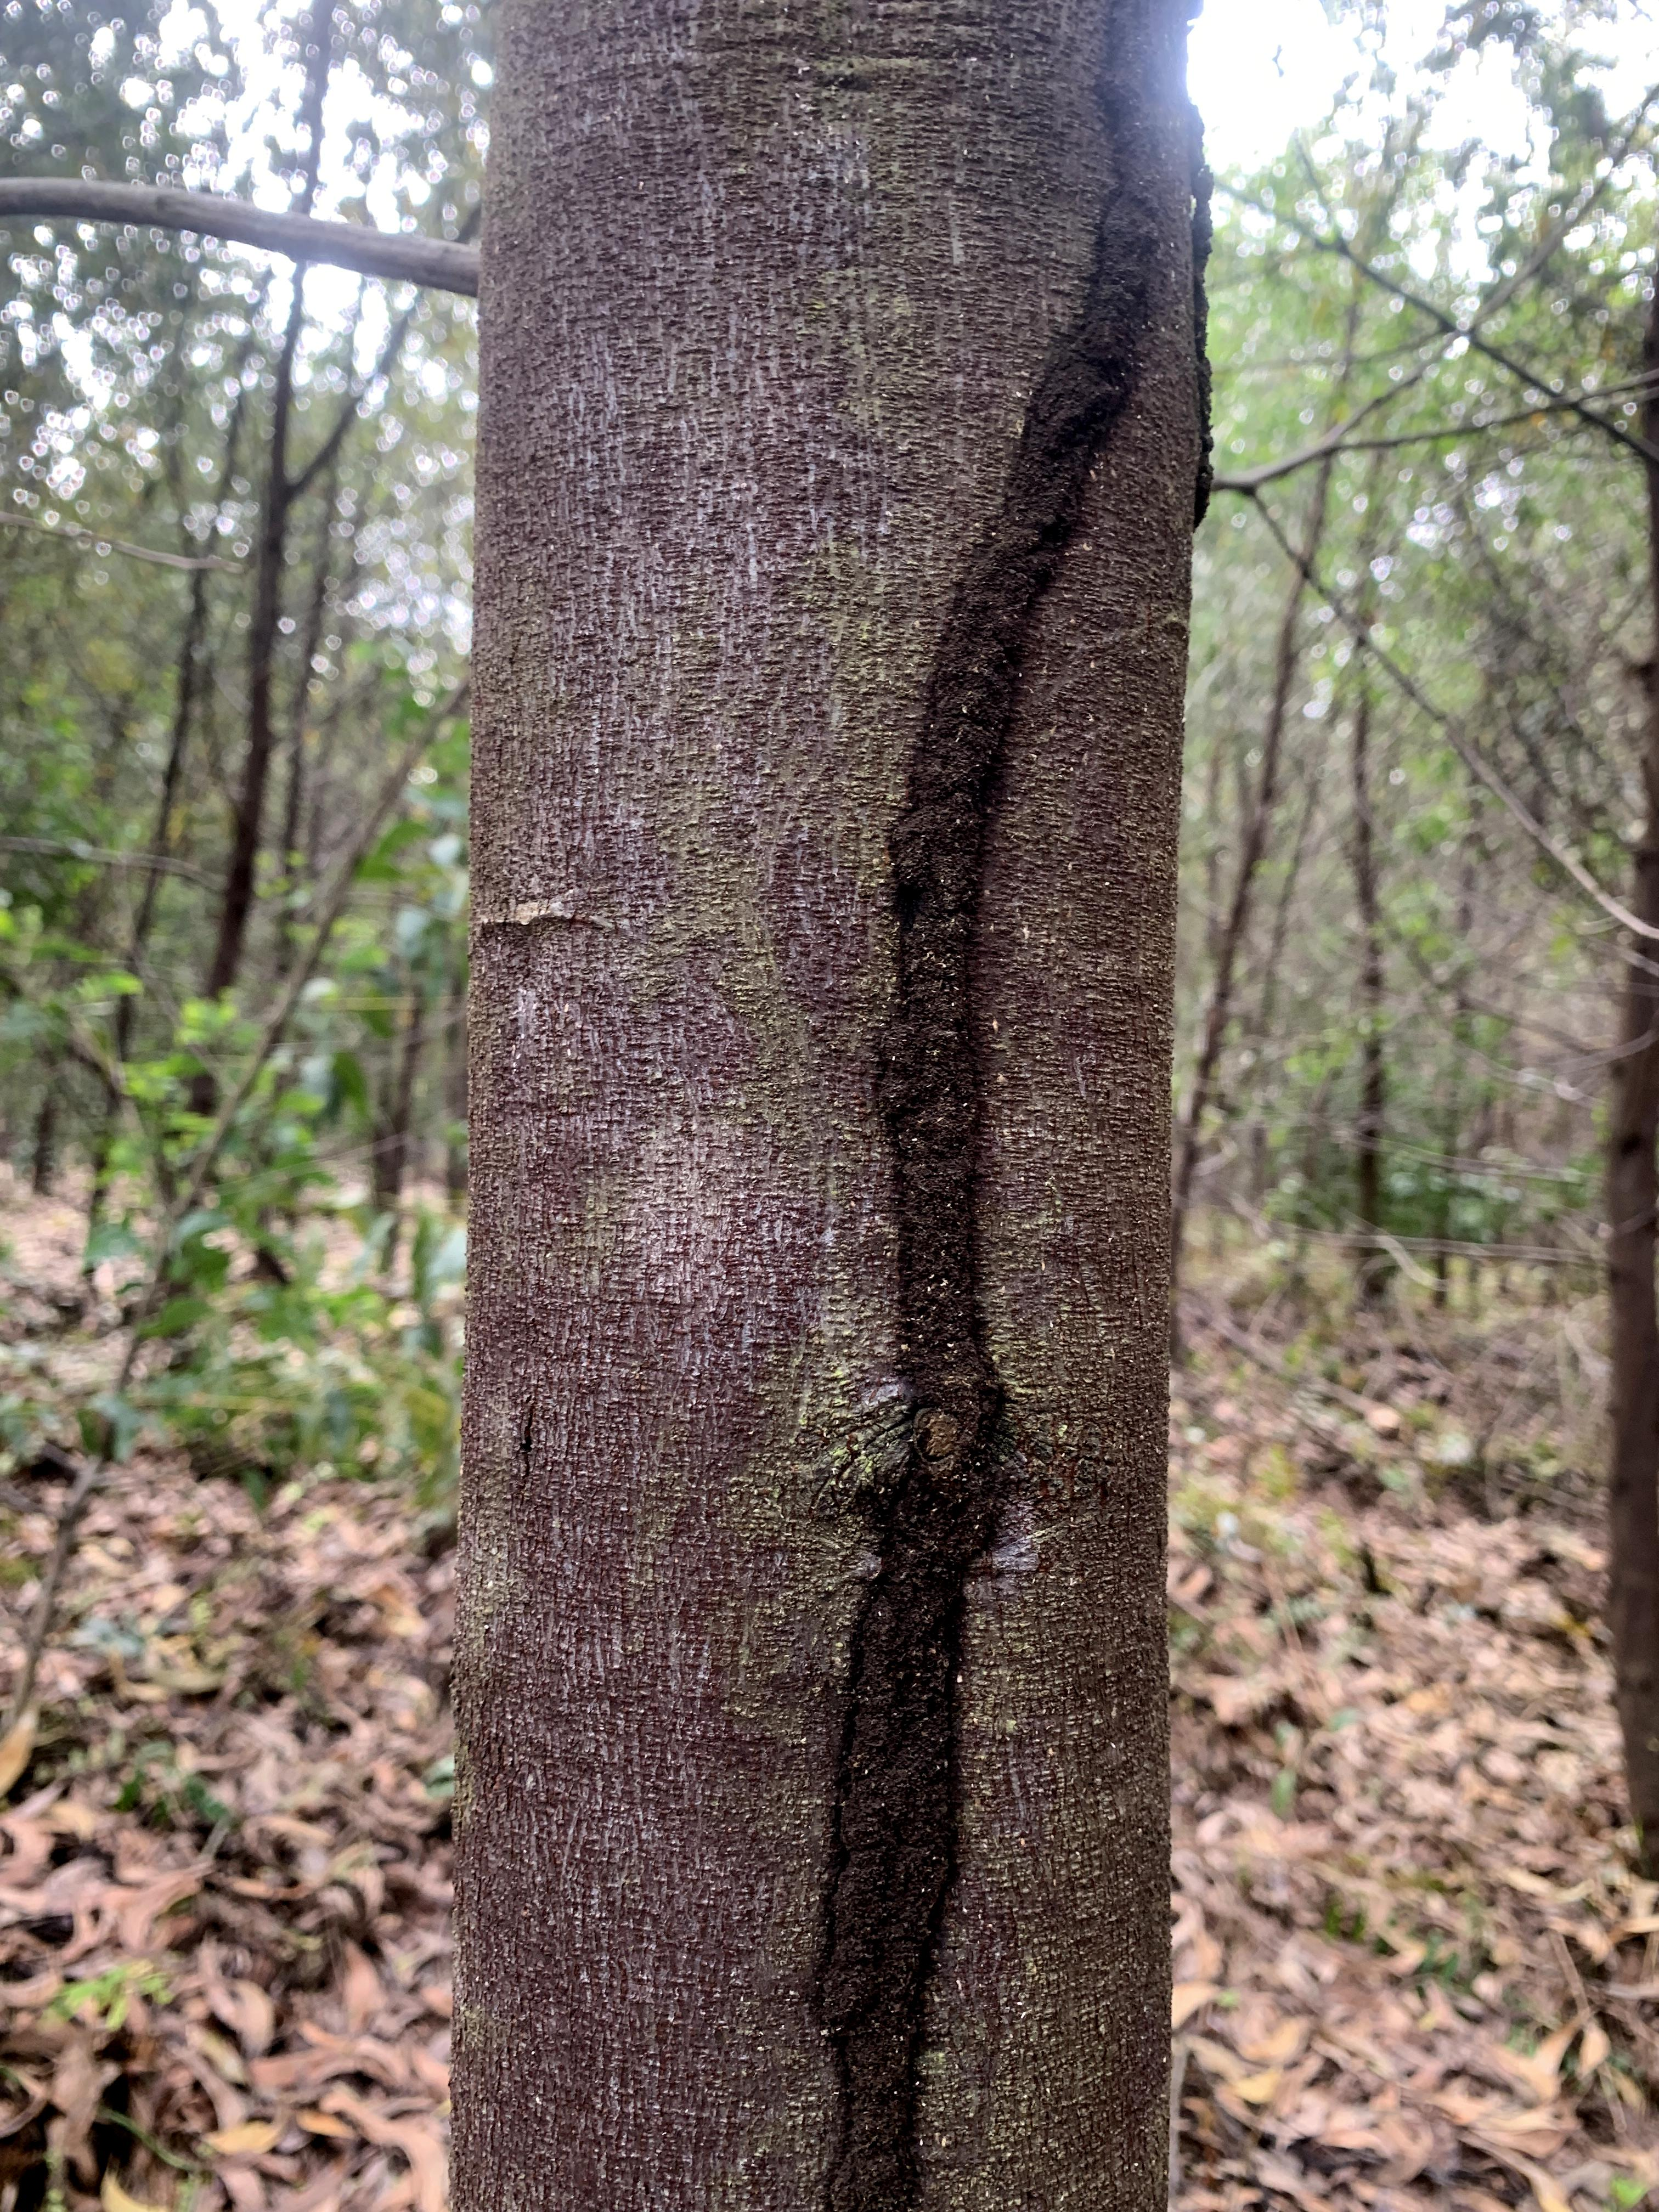Termite - Nest: (758, 2, 1218, 2198)
